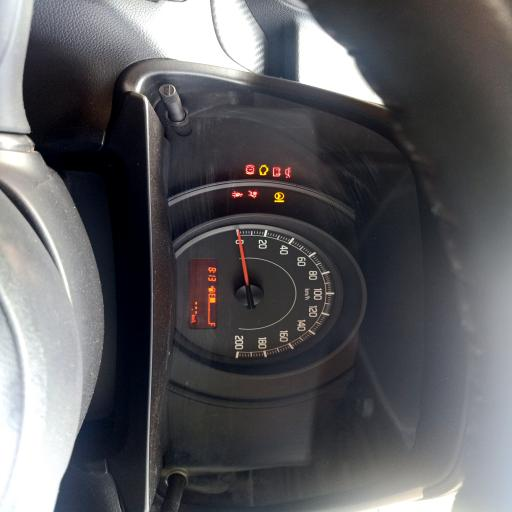belt: (231, 190, 243, 199)
brake_system_fault: (245, 164, 255, 174)
check_engine: (259, 165, 269, 176)
oil: (285, 167, 291, 178)
vehicle_charging: (273, 167, 281, 177)
